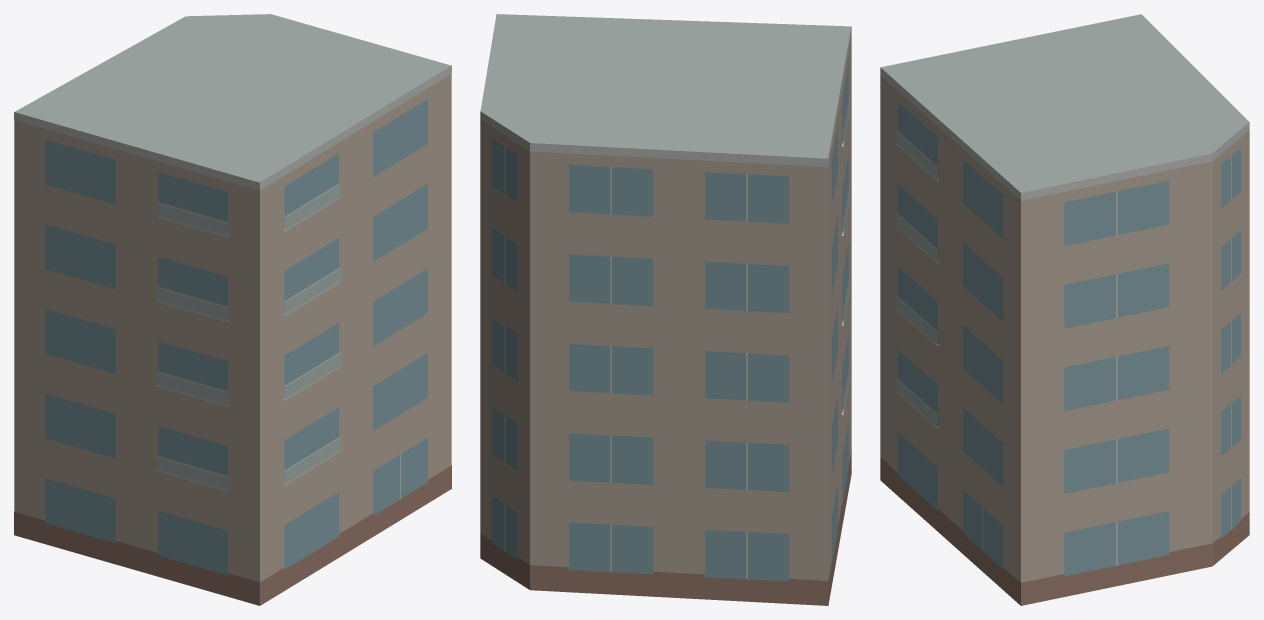
File: survey-upis-32730157.glb
3 renders of one model, left to right at view 1: azimuth 30°, elevation 25°; view 2: azimuth 150°, elevation 25°; view 3: azimuth 270°, elevation 25°, orthographic. The views are drawn at different scales.
Parts seen in each view (by area): view 1: survey-upis-32730157.tmp; view 2: survey-upis-32730157.tmp; view 3: survey-upis-32730157.tmp.
Boxes of the visible parts, box(x1,y1,x2,y2) form: survey-upis-32730157.tmp: box(14, 14, 451, 605); survey-upis-32730157.tmp: box(480, 14, 851, 605); survey-upis-32730157.tmp: box(880, 14, 1249, 605).
Bounding box in the file's own units: 12.09 × 13 × 10.54.
